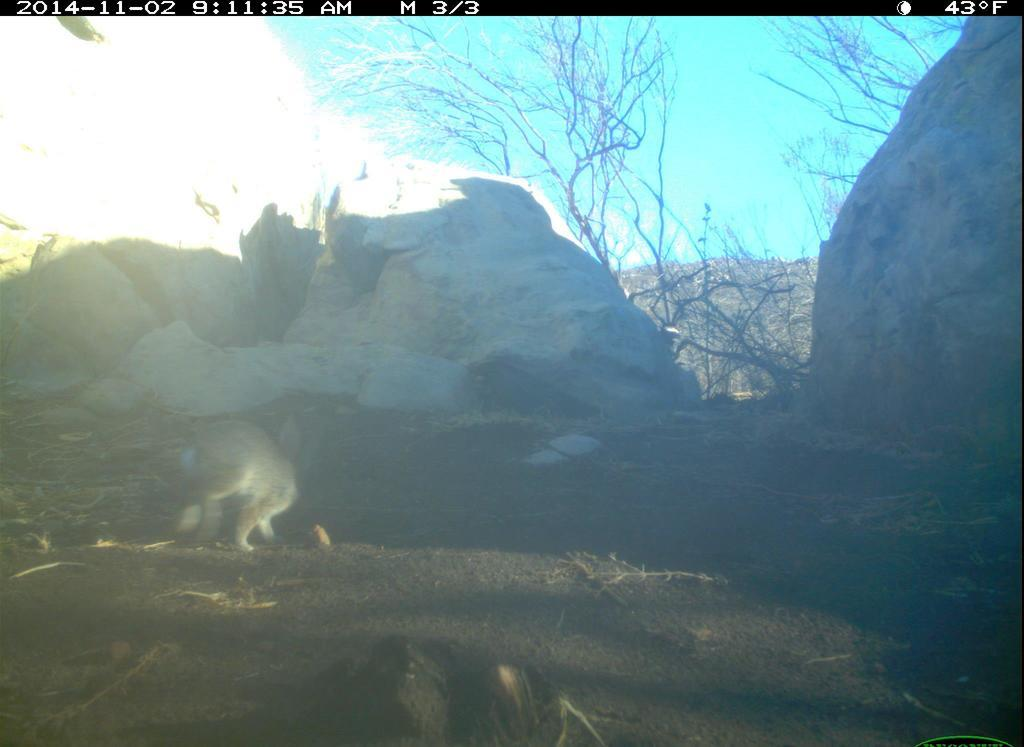rabbit: (152, 406, 324, 560)
